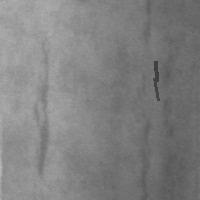inclusion: (30, 40, 58, 188), (135, 118, 155, 191), (138, 1, 157, 52), (152, 76, 160, 102), (153, 59, 158, 83)
